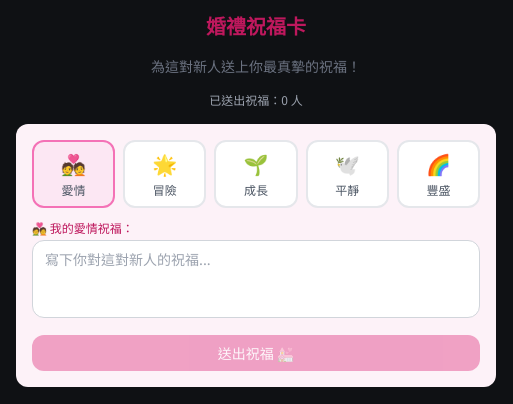
Scenario: WeddingVow › 5 字以上啟用提交按鈕
The width and height of the screenshot is (513, 404).
Type "祝你們白頭偕老" into the text box with test id "wdv-blessing-input" at (256, 279), box [32,240,480,318]
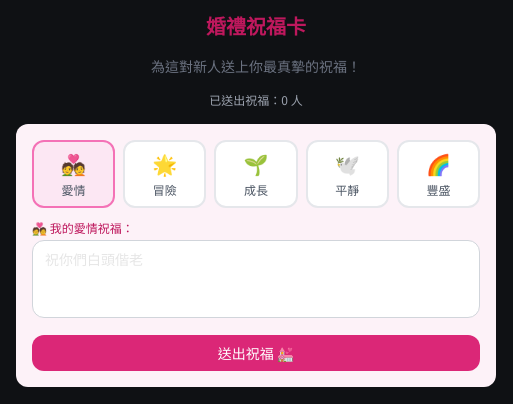
Result: the button with test id "wdv-submit-btn" is enabled at [32,335,480,371]
